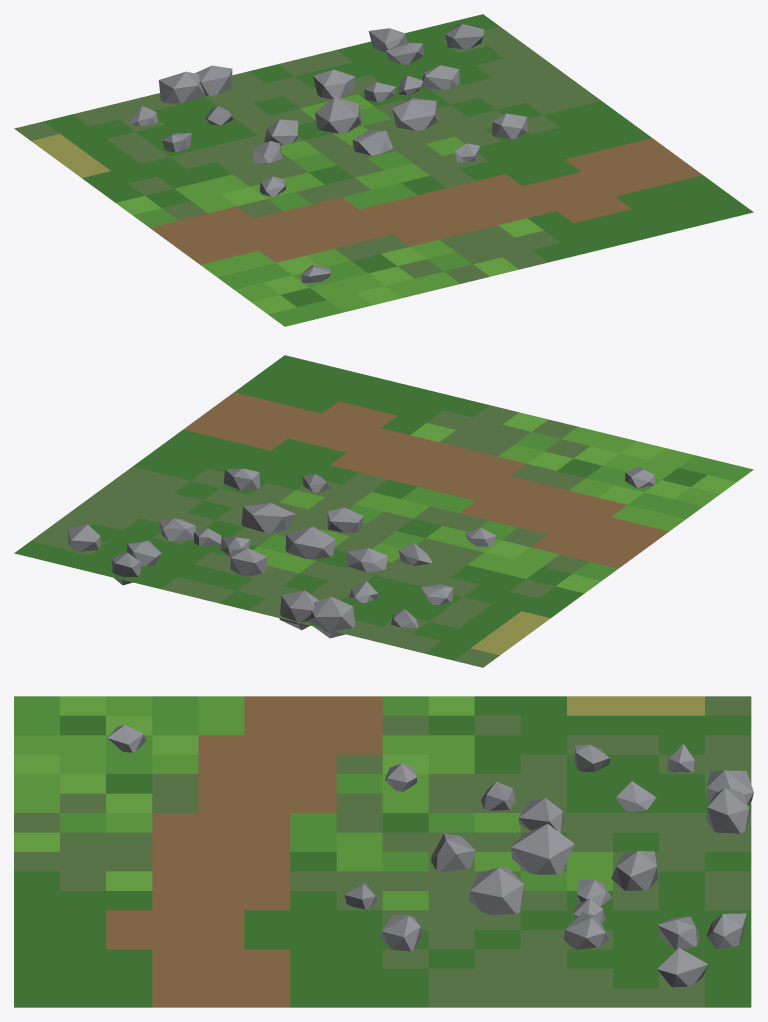
File: chunk_8_15.glb
3 renders of one model, top to bottom at view 1: azimuth 30°, elevation 25°; view 2: azimuth 150°, elevation 25°; view 3: azimuth 270°, elevation 25°, orthographic. The views are drawn at different scales.
Visible parts, largest first — view 1: chunk_8_15; view 2: chunk_8_15; view 3: chunk_8_15.
Boxes of the visible parts, bbox=[...] form: chunk_8_15: bbox=[14, 14, 753, 326]; chunk_8_15: bbox=[14, 355, 753, 667]; chunk_8_15: bbox=[14, 696, 753, 1007].
Bounding box in the file's own units: 16 × 1.36 × 16.06.
